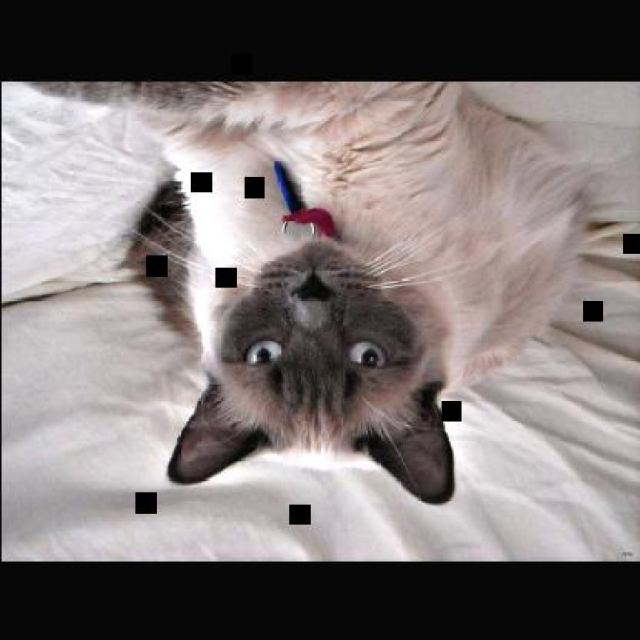unauthorized: (20, 78, 602, 504)
